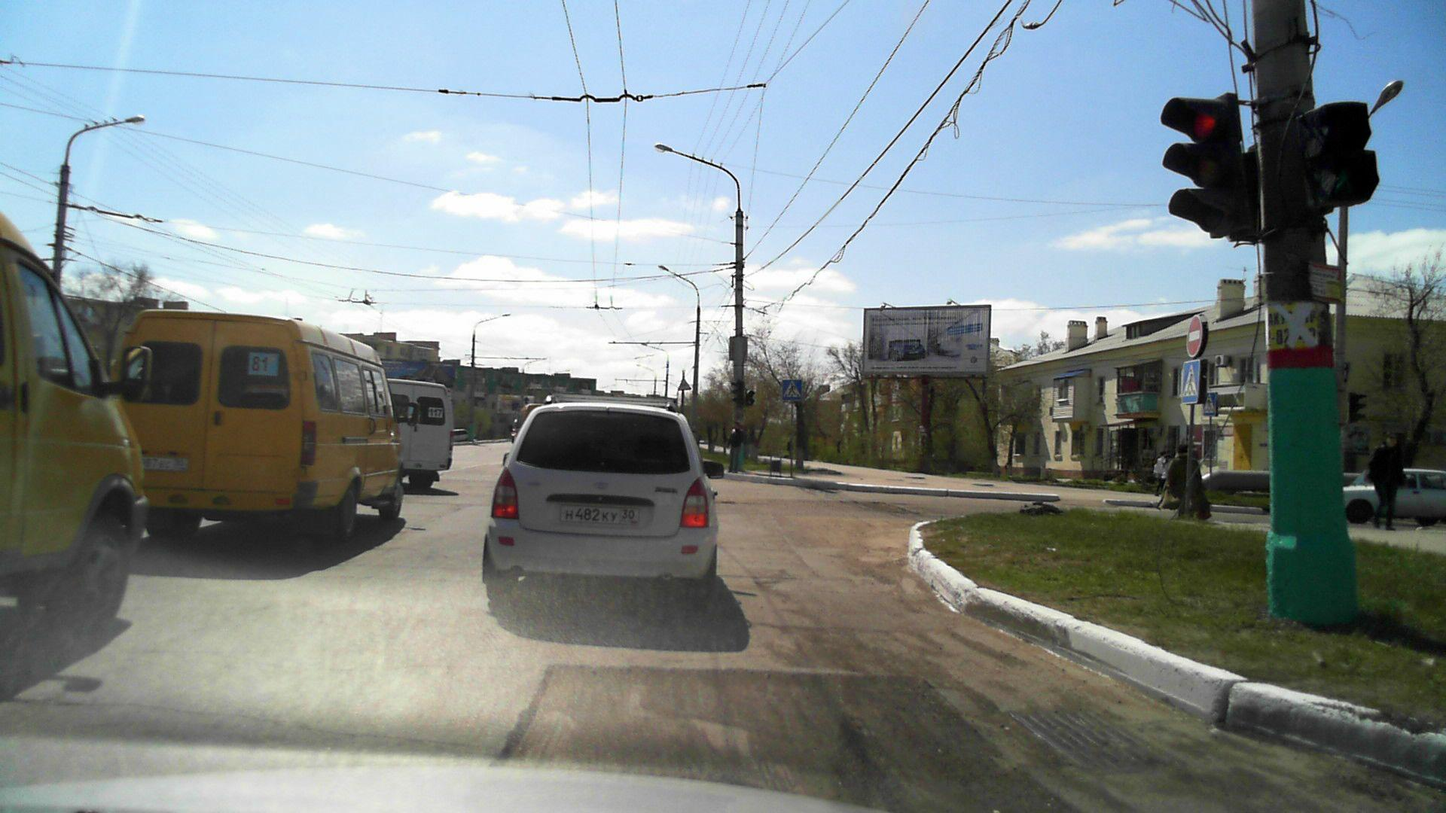off traffic light: (1301, 101, 1379, 209), (731, 379, 744, 406), (745, 389, 755, 406)
road_sign: (1180, 359, 1201, 404), (1186, 314, 1203, 358), (782, 380, 802, 401)
traffic light: (1160, 90, 1250, 243)
